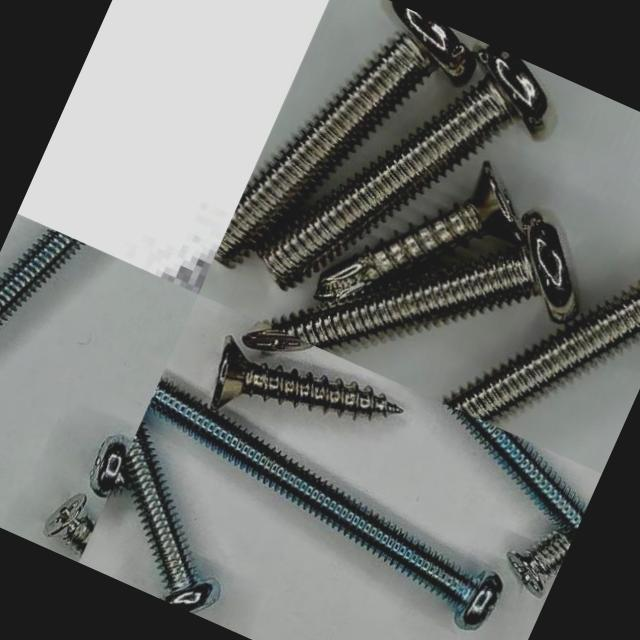Screw: (147, 377, 503, 631), (259, 46, 547, 289), (215, 2, 475, 268), (266, 213, 578, 349), (314, 162, 524, 306), (440, 283, 640, 424), (443, 403, 587, 542), (120, 420, 219, 613), (210, 336, 403, 419), (0, 229, 84, 324), (508, 533, 571, 599), (43, 495, 96, 558)
